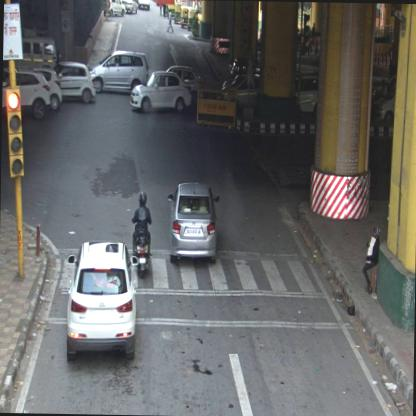car: (64, 236, 138, 366), (165, 181, 219, 264), (88, 49, 150, 96), (130, 70, 192, 113), (2, 68, 50, 121), (51, 60, 95, 104), (13, 36, 58, 70), (105, 0, 127, 18), (121, 0, 138, 16)
motorcycle: (128, 192, 153, 278)
